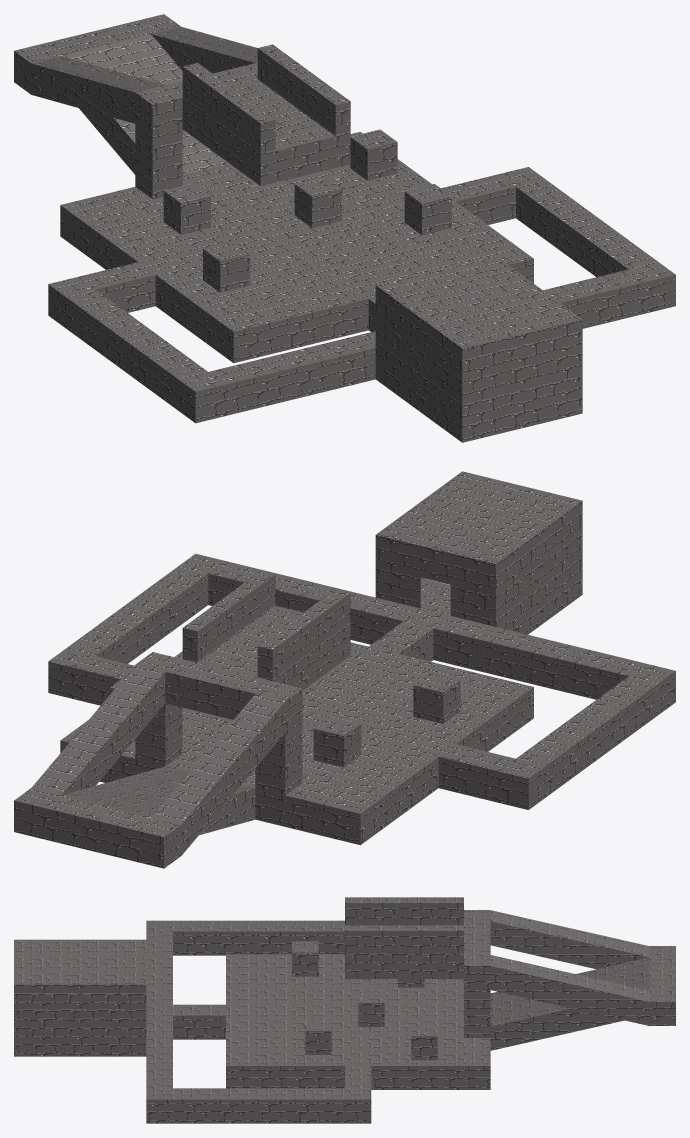
Rendered from sceneBSP1.obj.
3 views of the same model, one above another, from view 1: azimuth 30°, elevation 25°; view 2: azimuth 150°, elevation 25°; view 3: azimuth 270°, elevation 25° (orthographic). The views are drawn at different scales.
Visible parts, largest first — view 1: Cube; view 2: Cube; view 3: Cube.
Boxes of the visible parts, x1,y1,x2,y2 form: Cube: (14,14,675,442); Cube: (14,471,675,868); Cube: (14,897,675,1123).
Size of the model in its own units: 32 by 10 by 50.
